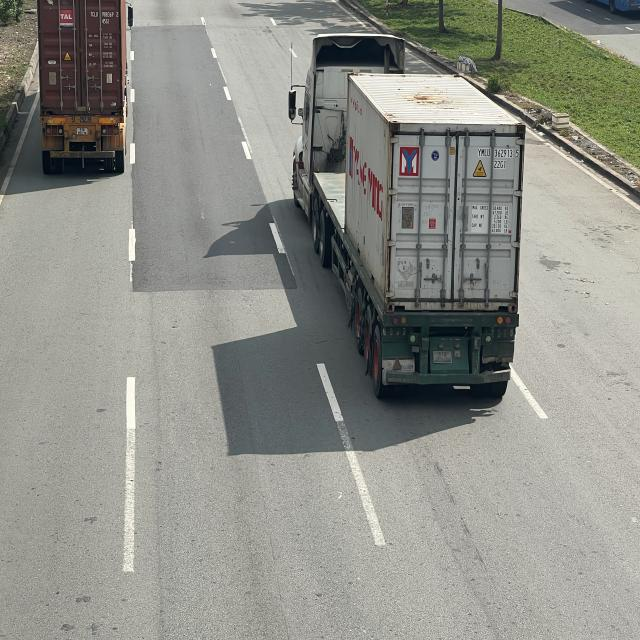container: (286, 32, 529, 404), (36, 0, 133, 173)
